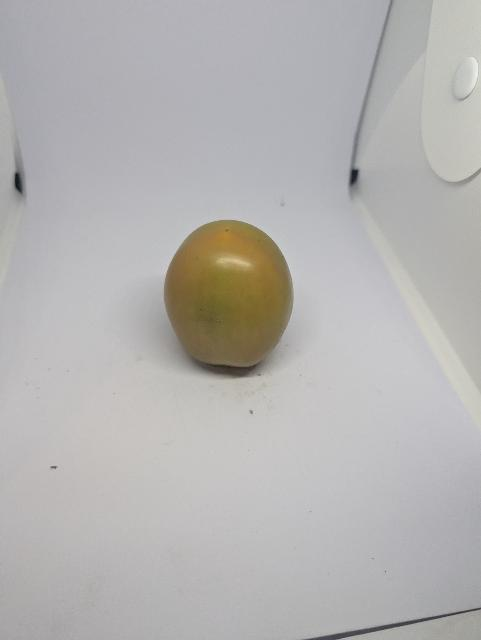breaker: (162, 212, 297, 369)
